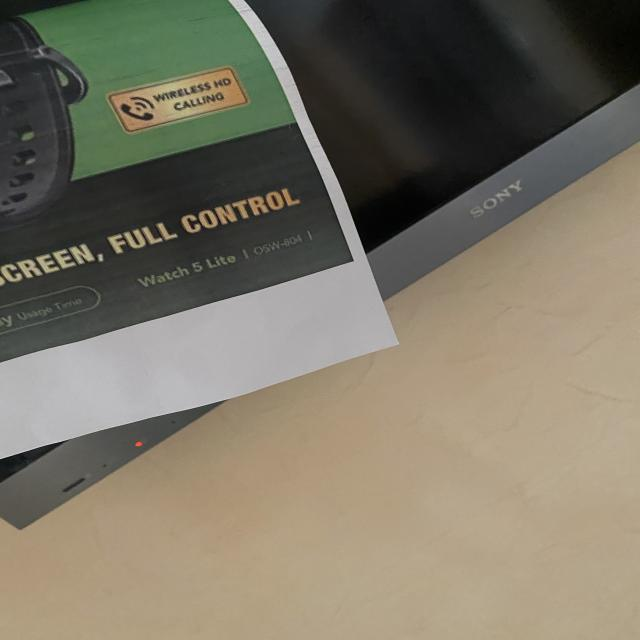Watch 5 Lite OSW-804: (125, 223, 323, 292)
